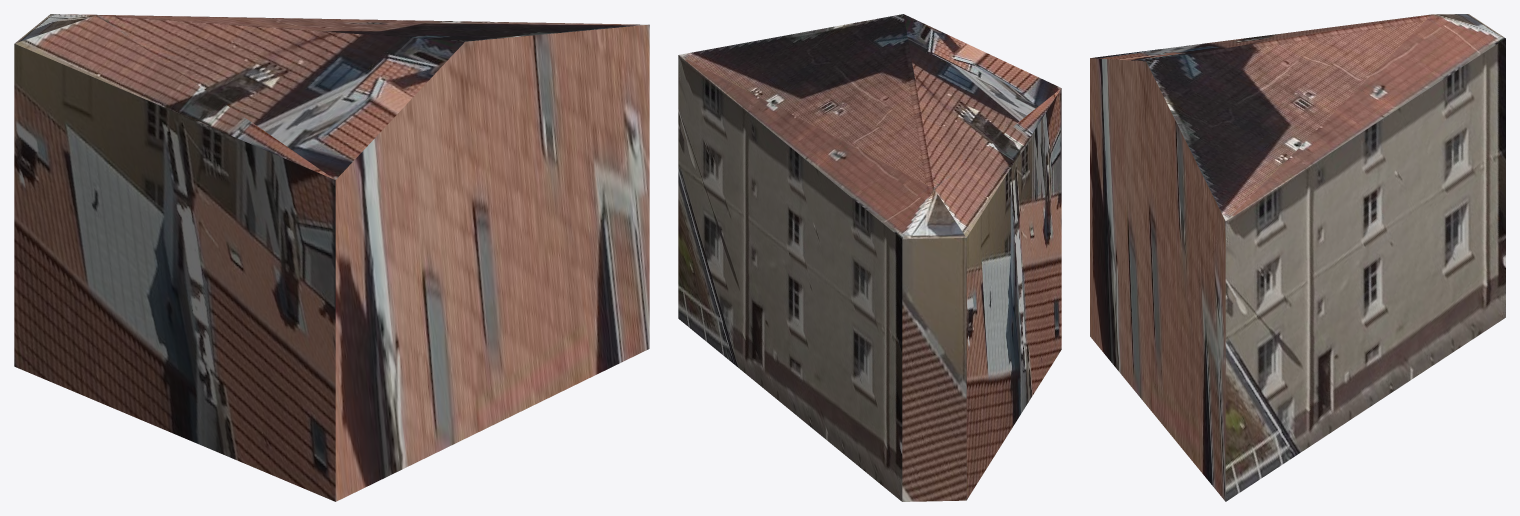
3 renders of one model, left to right at view 1: azimuth 30°, elevation 25°; view 2: azimuth 150°, elevation 25°; view 3: azimuth 270°, elevation 25°, orthographic. The views are drawn at different scales.
Parts seen in each view (by area): view 1: Z_UP; view 2: Z_UP; view 3: Z_UP.
Boxes of the visible parts, x1=… form: Z_UP: x1=14, y1=14, x2=649, y2=501; Z_UP: x1=678, y1=14, x2=1061, y2=501; Z_UP: x1=1090, y1=14, x2=1505, y2=501.
Size of the model in its own units: 19.17 by 14.7 by 16.14.
Materials: 2 (1 with a texture image).
